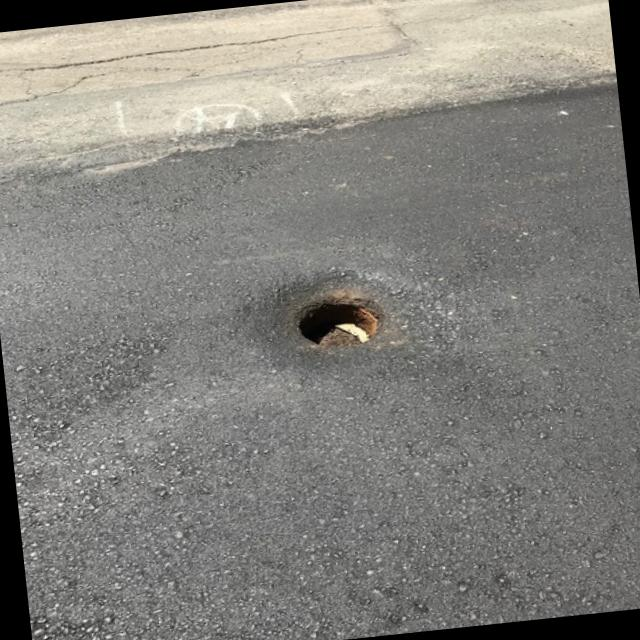Potholes: (242, 278, 396, 356)
